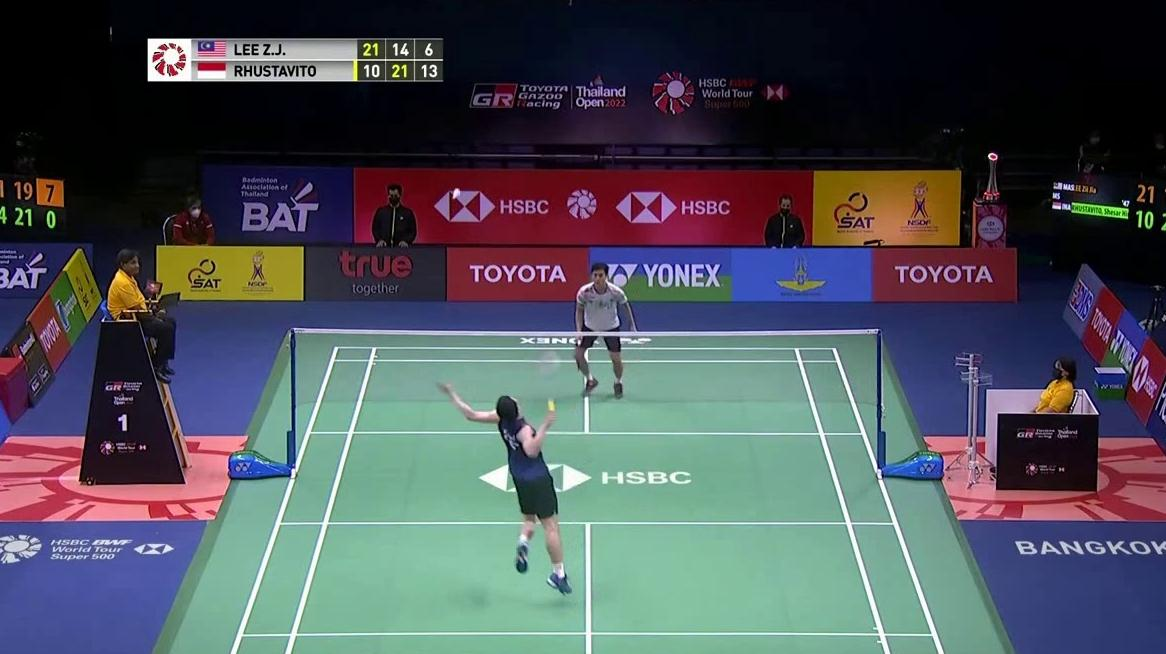racket: (534, 350, 562, 417), (570, 333, 585, 375)
shuttle: (451, 187, 461, 200)
